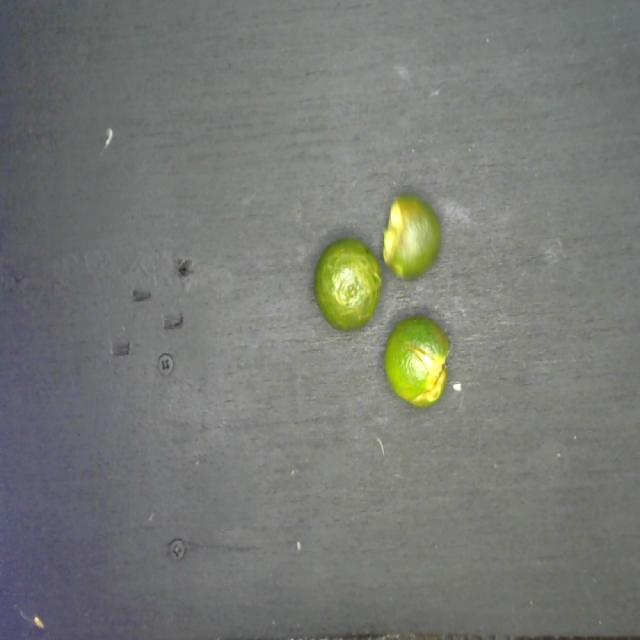biodegradable: (312, 188, 454, 417)
